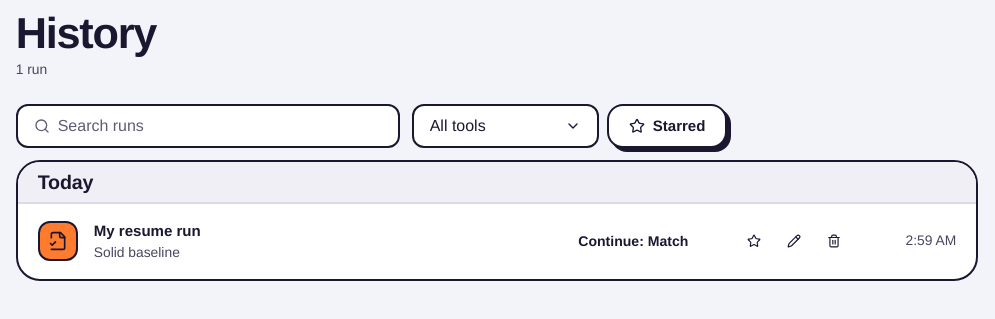
Test: HistoryPage › shows a rename error inline
Click the button named "Rename My resume run".
click(794, 241)  # box left=776, top=223, right=812, bottom=259
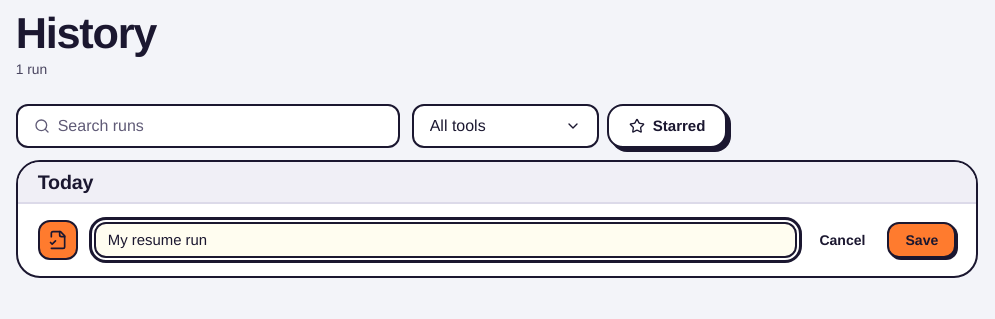
Click the button "Save".
click(922, 240)  # box left=888, top=222, right=956, bottom=258
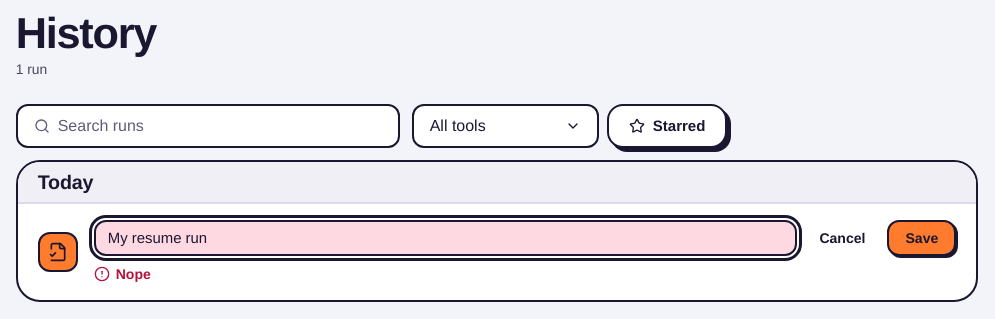
Result: the message reads "Nope" at left=116, top=265, right=151, bottom=283
